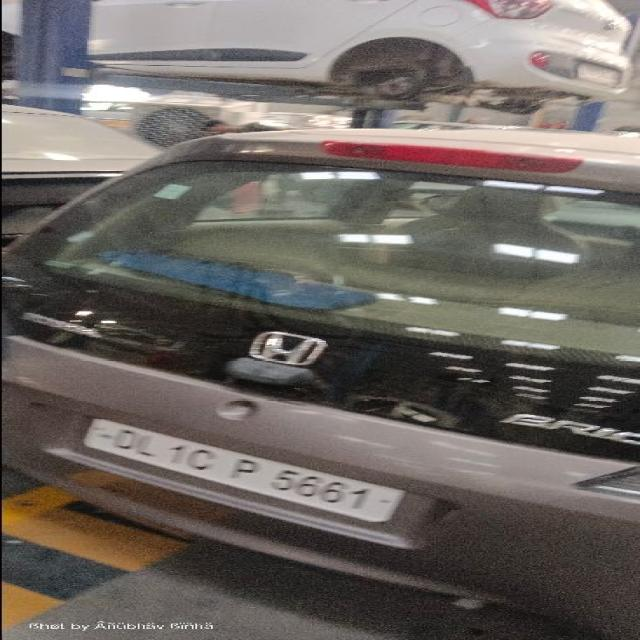license_plate: (2, 125, 638, 563), (80, 416, 408, 524)
